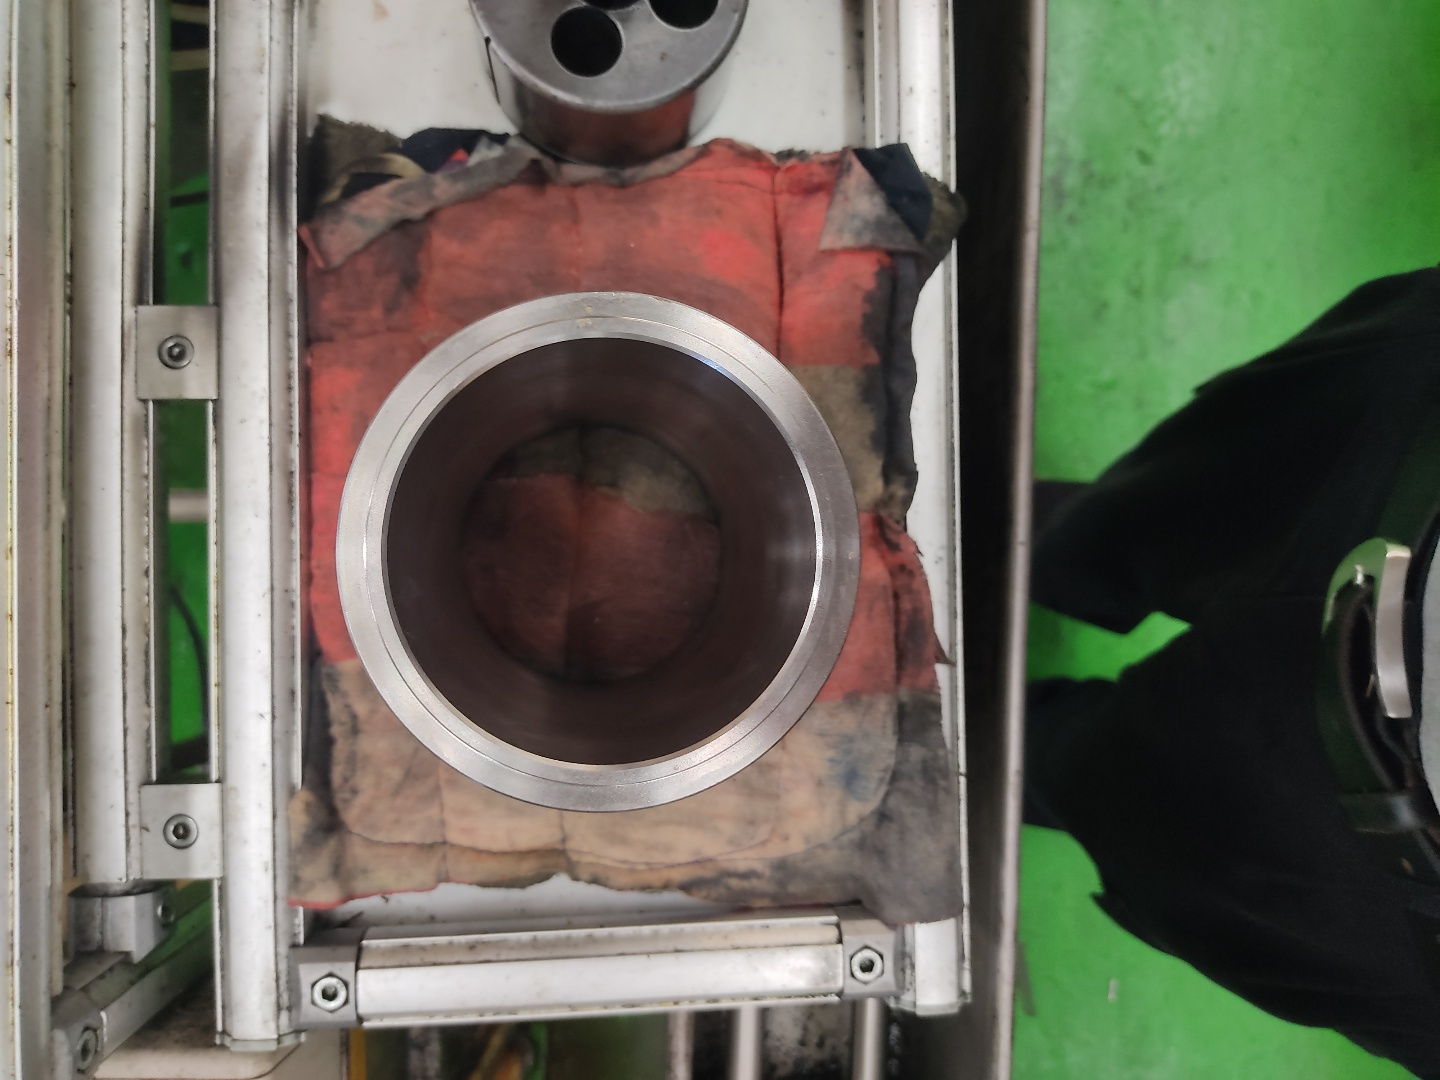cylinder: (334, 287, 866, 816)
